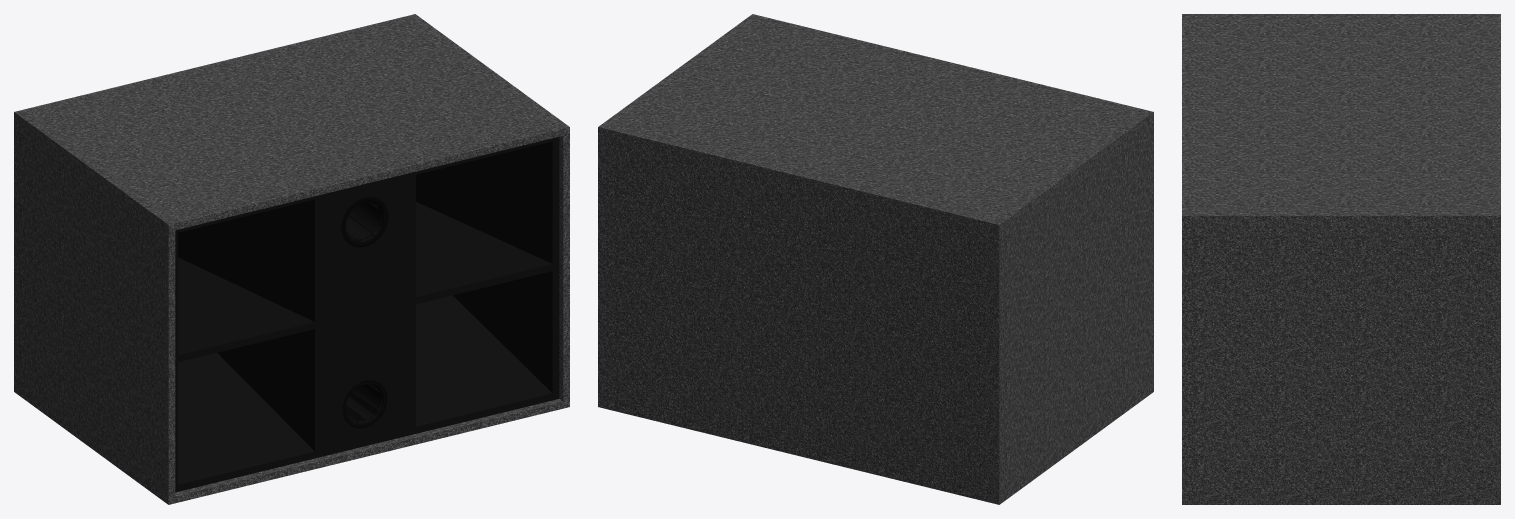
Rendered from subwoofer-optimized.glb.
3 renders of one model, left to right at view 1: azimuth 30°, elevation 25°; view 2: azimuth 150°, elevation 25°; view 3: azimuth 270°, elevation 25°, orthographic. The views are drawn at different scales.
Visible parts, largest first — view 1: Main Box_1, Cutter.001_0, Top Flange_3; view 2: Main Box_1; view 3: Main Box_1.
Boxes of the visible parts, bbox=[...] form: Main Box_1: bbox=[14, 14, 569, 504]; Cutter.001_0: bbox=[346, 201, 384, 425]; Top Flange_3: bbox=[341, 196, 388, 247]; Main Box_1: bbox=[598, 14, 1153, 504]; Main Box_1: bbox=[1182, 14, 1500, 504].
Bounding box in the file's own units: 8.49 × 5.66 × 5.66.
Materials: 4 (1 with a texture image).
